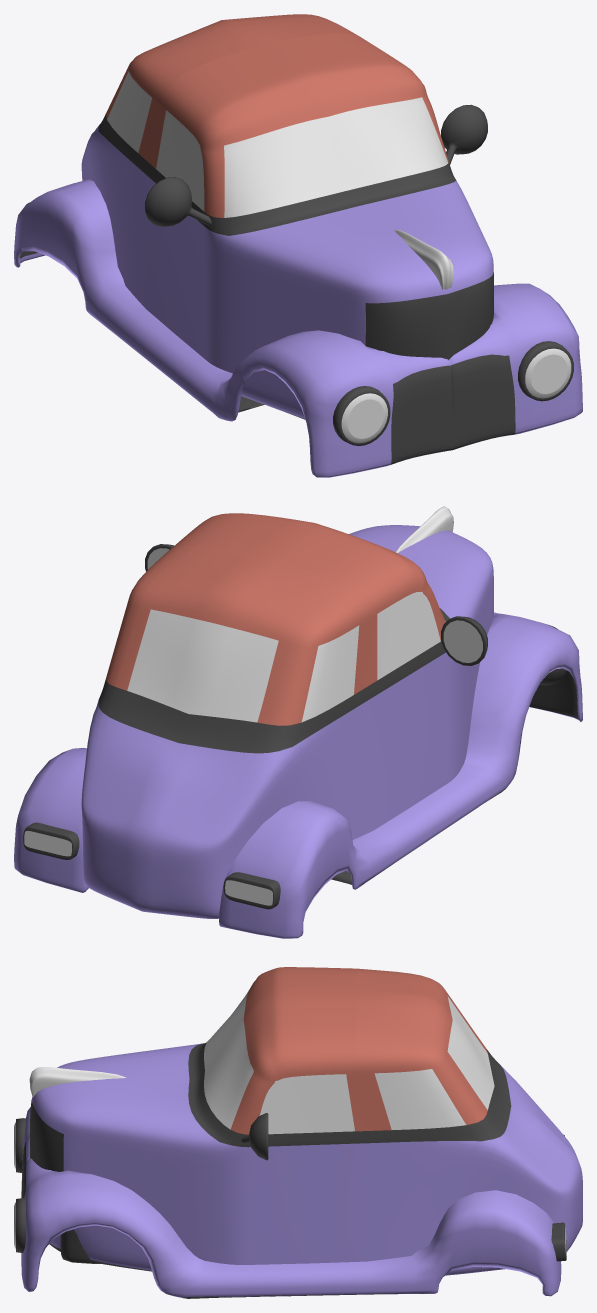
Rendered from cadilac 50s.fbx.
3 renders of one model, top to bottom at view 1: azimuth 30°, elevation 25°; view 2: azimuth 150°, elevation 25°; view 3: azimuth 270°, elevation 25°, orthographic. The views are drawn at different scales.
Parts seen in each view (by area): view 1: Cadilac Chassi, High Light, Front Light; view 2: Cadilac Chassi, Breack Light; view 3: Cadilac Chassi.
Boxes of the visible parts, bbox=[...] form: Cadilac Chassi: bbox=[14, 14, 582, 477]; High Light: bbox=[347, 354, 567, 438]; Front Light: bbox=[341, 348, 571, 443]; Cadilac Chassi: bbox=[14, 506, 582, 938]; Breack Light: bbox=[24, 831, 272, 905]; Cadilac Chassi: bbox=[16, 967, 582, 1298].
Bounding box in the file's own units: 5.61 × 4.27 × 9.07.
